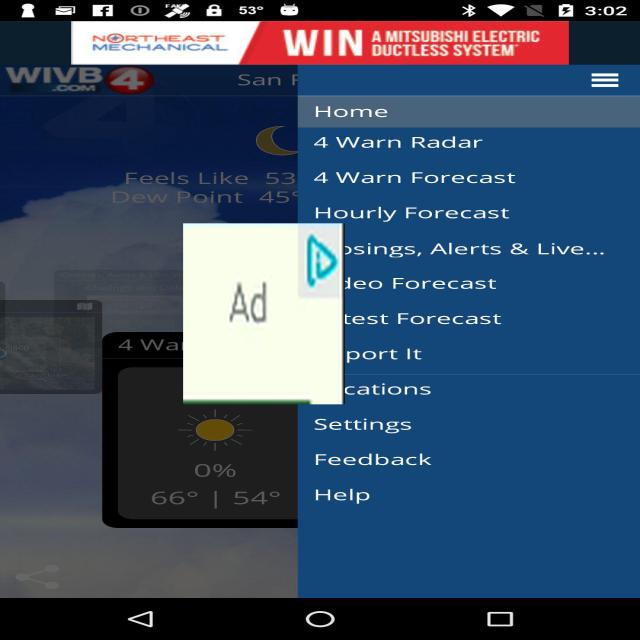sneaking: (183, 223, 345, 404)
